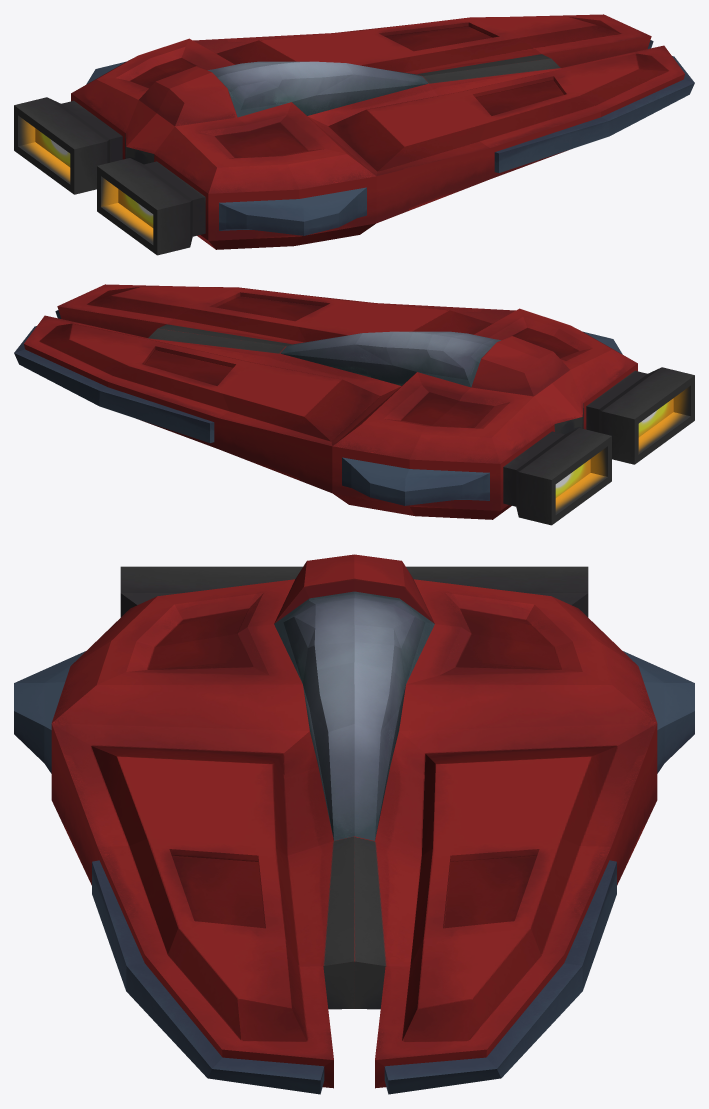
Rendered from ship.fbx.
3 renders of one model, top to bottom at view 1: azimuth 30°, elevation 25°; view 2: azimuth 150°, elevation 25°; view 3: azimuth 270°, elevation 25°, orthographic. The views are drawn at different scales.
Visible parts, largest first — view 1: ship02; view 2: ship02; view 3: ship02.
Part boxes in pixels (<box>): ship02: <box>14,14,694,255</box>; ship02: <box>14,284,694,525</box>; ship02: <box>14,554,694,1094</box>.
Size of the model in its own units: 6.07 by 1.15 by 3.79.
